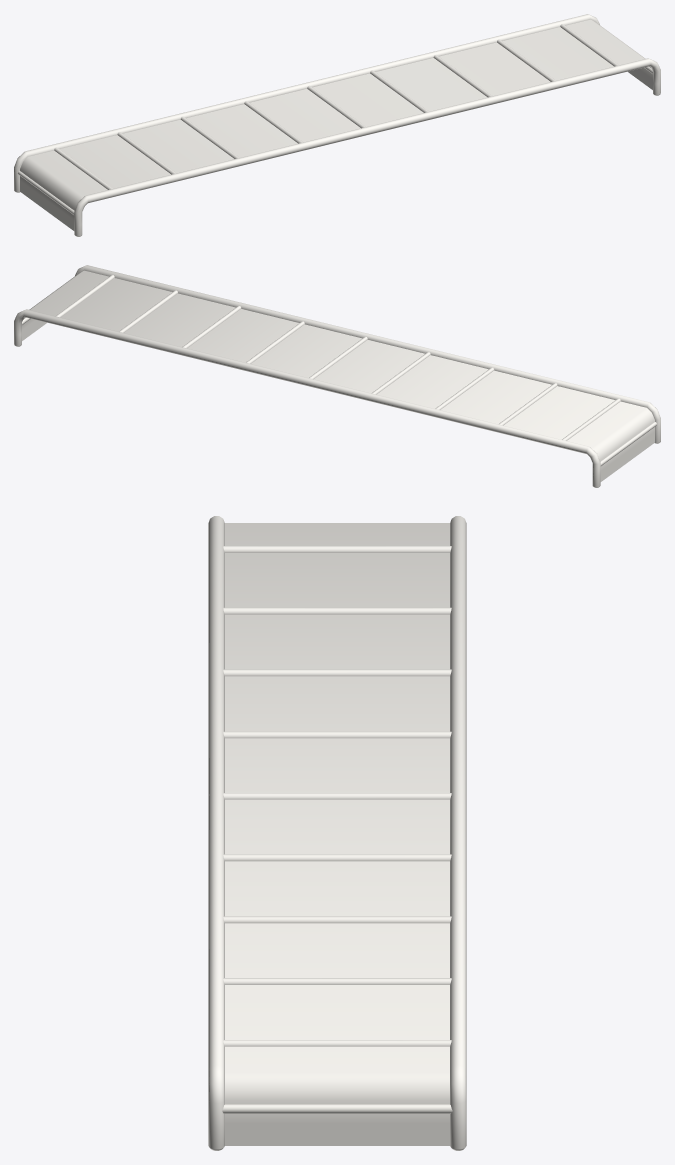
File: bathtub_caddie_update.fbx
3 renders of one model, top to bottom at view 1: azimuth 30°, elevation 25°; view 2: azimuth 150°, elevation 25°; view 3: azimuth 270°, elevation 25°, orthographic. The views are drawn at different scales.
Visible parts, largest first — view 1: Tub_Caddie.001; view 2: Tub_Caddie.001; view 3: Tub_Caddie.001.
Part boxes in pixels (left/top/right/bottom): Tub_Caddie.001: left=14, top=14, right=660, bottom=236; Tub_Caddie.001: left=14, top=265, right=660, bottom=487; Tub_Caddie.001: left=208, top=516, right=466, bottom=1150.
Bounding box in the file's own units: 185 × 35.29 × 11.39.
1 material, 1 textured.
